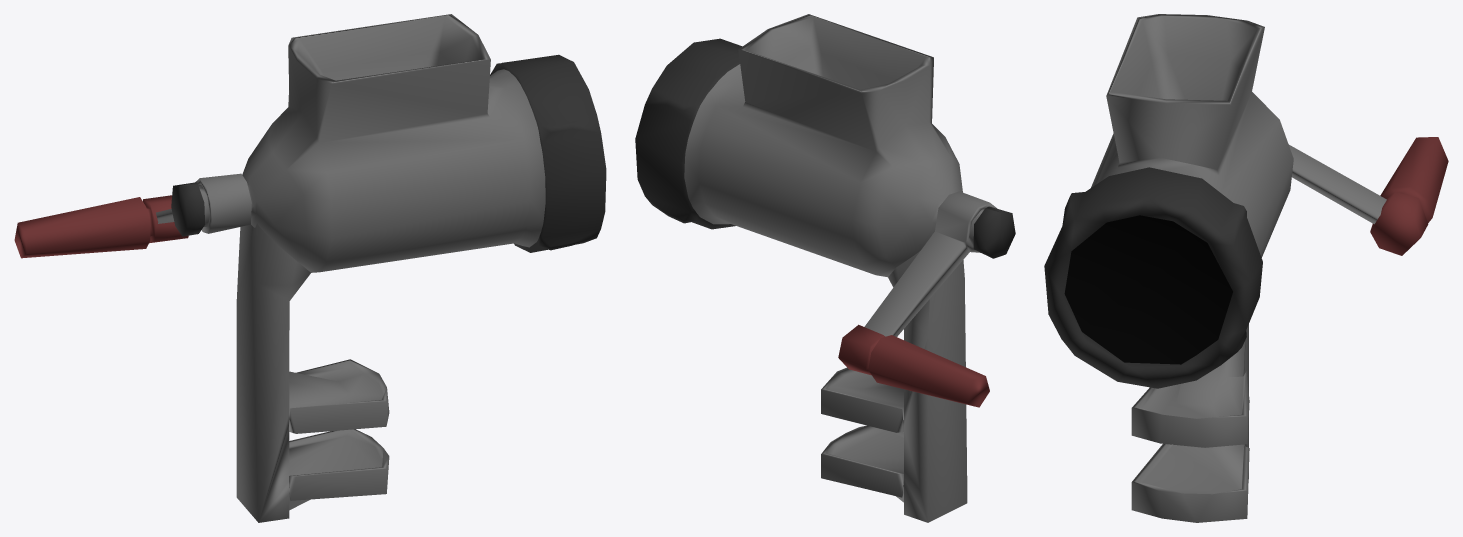
The model's file is 2238317d-64a0-4827-b0fd-29aeddbff7ea.glb.
3 views of the same model, side by side, from view 1: azimuth 30°, elevation 25°; view 2: azimuth 150°, elevation 25°; view 3: azimuth 270°, elevation 25° (orthographic). The views are drawn at different scales.
Visible parts, largest first — view 1: AntiqueMeatGrinder; view 2: AntiqueMeatGrinder; view 3: AntiqueMeatGrinder.
Part boxes in pixels (x1,y1,x2,y2): AntiqueMeatGrinder: [14, 14, 606, 522]; AntiqueMeatGrinder: [635, 14, 1015, 522]; AntiqueMeatGrinder: [1044, 14, 1448, 522].
Size of what is drawn, in the model's own units: 0.4862 by 0.4615 by 0.3481.
Materials: 2 (2 with a texture image).
